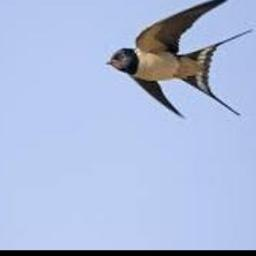Swallow: (106, 0, 254, 118)
